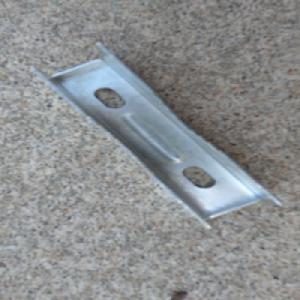ClampPart: (29, 40, 285, 231)
